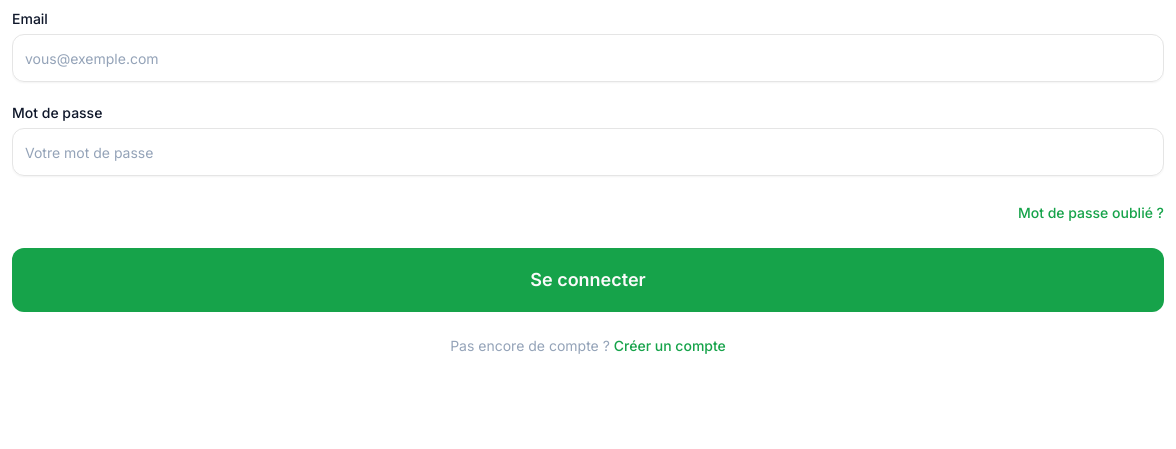
Test: LoginForm › should display error message when network error occurs
The image size is (1176, 449).
Type "test@example.com" into the field labelled "Email".
click(588, 58); type("test@example.com")  # box 12,34 -> 1164,82
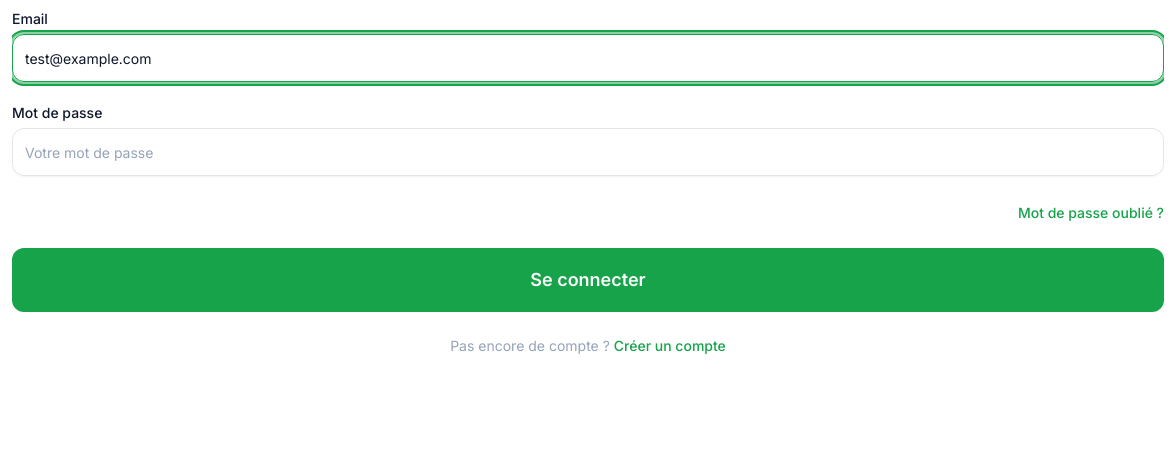
Type "password123" into the password field labelled "Mot de passe".
click(588, 152); type("password123")  # box 12,128 -> 1164,176
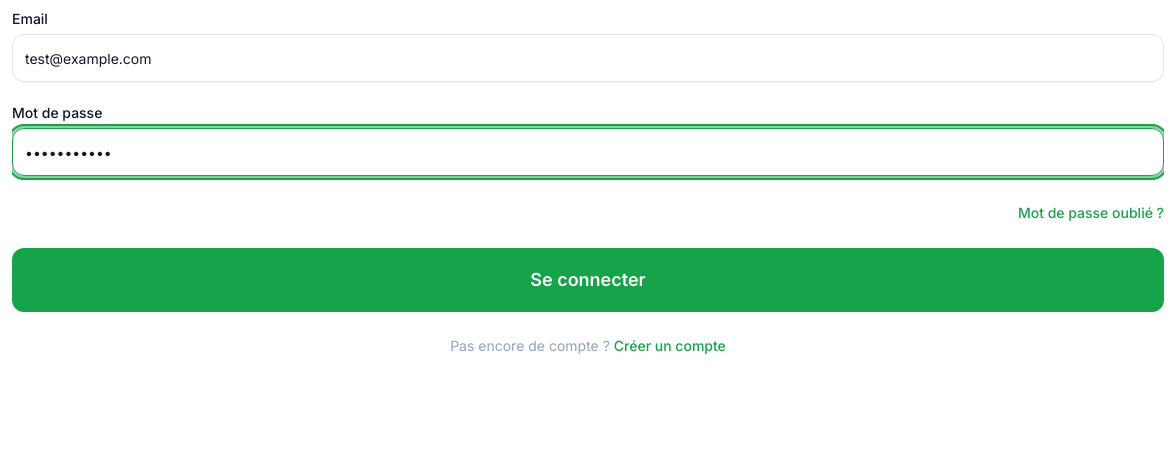
Click the button "Se connecter".
click(588, 280)  # box 12,248 -> 1164,312
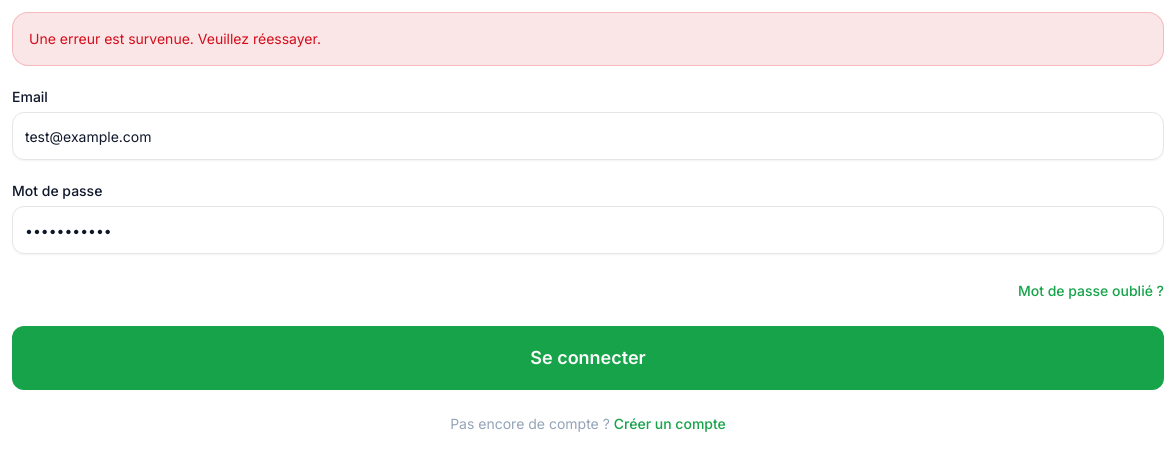
expect the text "Une erreur est survenue. Veuillez réessayer." is shown: met, box 12,12 -> 1164,66
